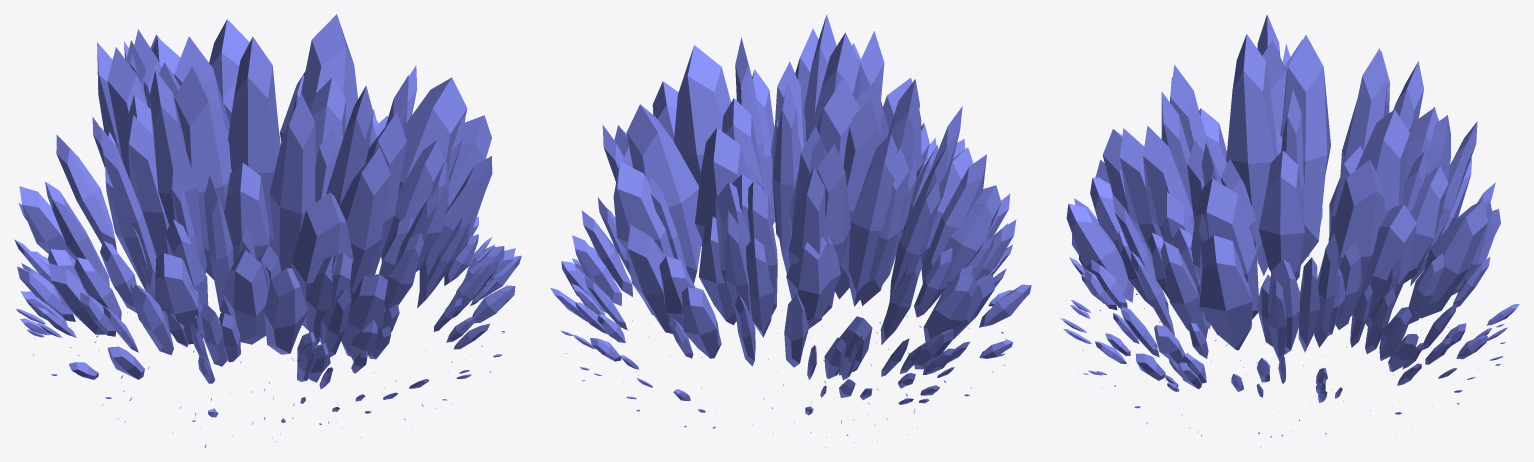
The model's file is crystal.fbx.
3 renders of one model, left to right at view 1: azimuth 30°, elevation 25°; view 2: azimuth 150°, elevation 25°; view 3: azimuth 270°, elevation 25°, orthographic. The views are drawn at different scales.
Visible parts, largest first — view 1: Round Crystal Blue Purple; view 2: Round Crystal Blue Purple; view 3: Round Crystal Blue Purple.
Boxes of the visible parts, box(x1,y1,x2,y2) form: Round Crystal Blue Purple: box(14, 14, 521, 447); Round Crystal Blue Purple: box(550, 14, 1031, 447); Round Crystal Blue Purple: box(1060, 14, 1519, 447).
Size of the model in its own units: 25.26 by 19.13 by 25.67.
